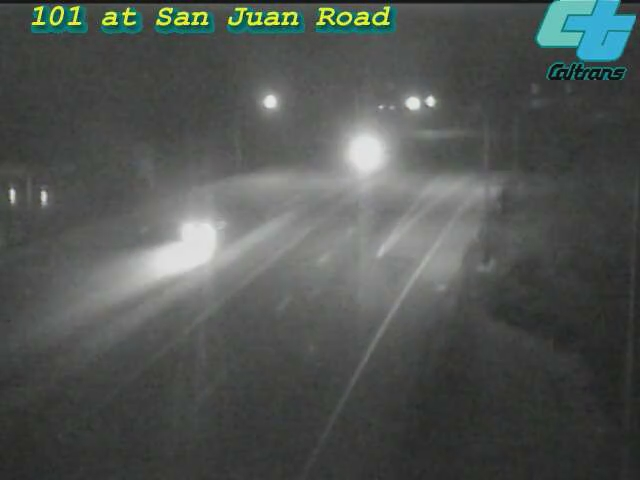vehicle: (154, 189, 234, 269), (323, 113, 403, 193)
